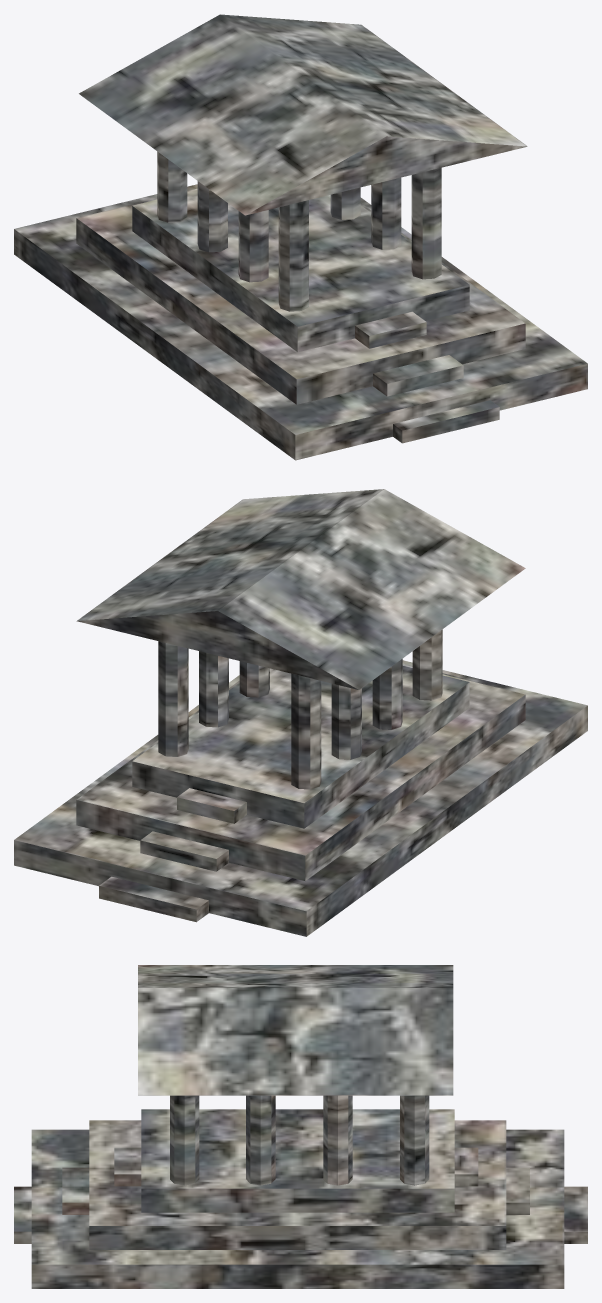
The model's file is temple.obj.
3 renders of one model, top to bottom at view 1: azimuth 30°, elevation 25°; view 2: azimuth 150°, elevation 25°; view 3: azimuth 270°, elevation 25°, orthographic. The views are drawn at different scales.
Visible parts, largest first — view 1: Object.2, Object.1, Object.10, Object.9, Object.6, Object.5, Object.3, Object.7, Object.4; view 2: Object.2, Object.1, Object.7, Object.8, Object.3, Object.4, Object.6, Object.10, Object.5; view 3: Object.2, Object.1, Object.5, Object.4, Object.8, Object.9.
Part boxes in pixels (<box>): Object.2: <box>14,184,587,460</box>; Object.1: <box>79,14,527,215</box>; Object.10: <box>278,200,308,311</box>; Object.9: <box>411,167,441,279</box>; Object.6: <box>238,210,268,282</box>; Object.5: <box>371,177,401,249</box>; Object.3: <box>197,181,227,252</box>; Object.7: <box>157,151,187,222</box>; Object.4: <box>330,187,360,219</box>; Object.2: <box>14,660,587,936</box>; Object.1: <box>76,489,525,689</box>; Object.7: <box>291,673,321,789</box>; Object.8: <box>158,641,188,756</box>; Object.3: <box>331,683,361,759</box>; Object.4: <box>199,651,228,727</box>; Object.6: <box>372,659,402,729</box>; Object.10: <box>412,629,442,700</box>; Object.5: <box>239,661,269,697</box>; Object.2: <box>14,1109,587,1288</box>; Object.1: <box>138,965,453,1095</box>; Object.5: <box>246,1095,275,1185</box>; Object.4: <box>323,1095,352,1185</box>; Object.8: <box>400,1095,429,1185</box>; Object.9: <box>170,1095,199,1185</box>.
Size of the model in its own units: 60 by 48.42 by 108.
Materials: 1 (1 with a texture image).
